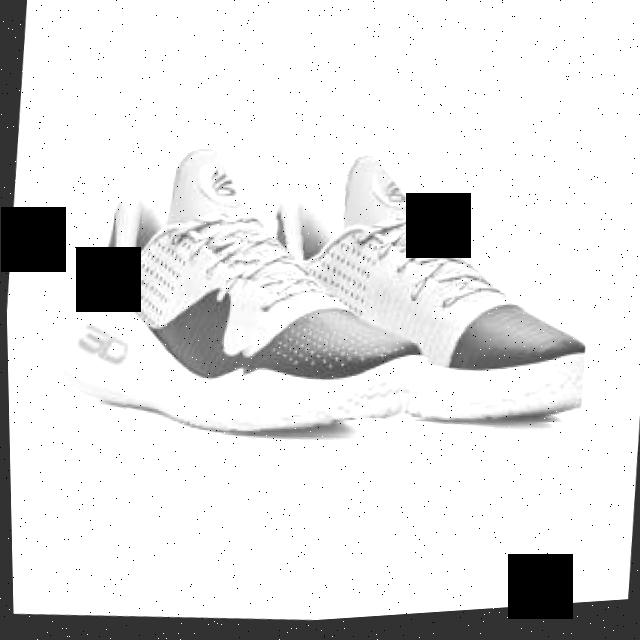shoe: (52, 126, 429, 462), (218, 135, 601, 449)
